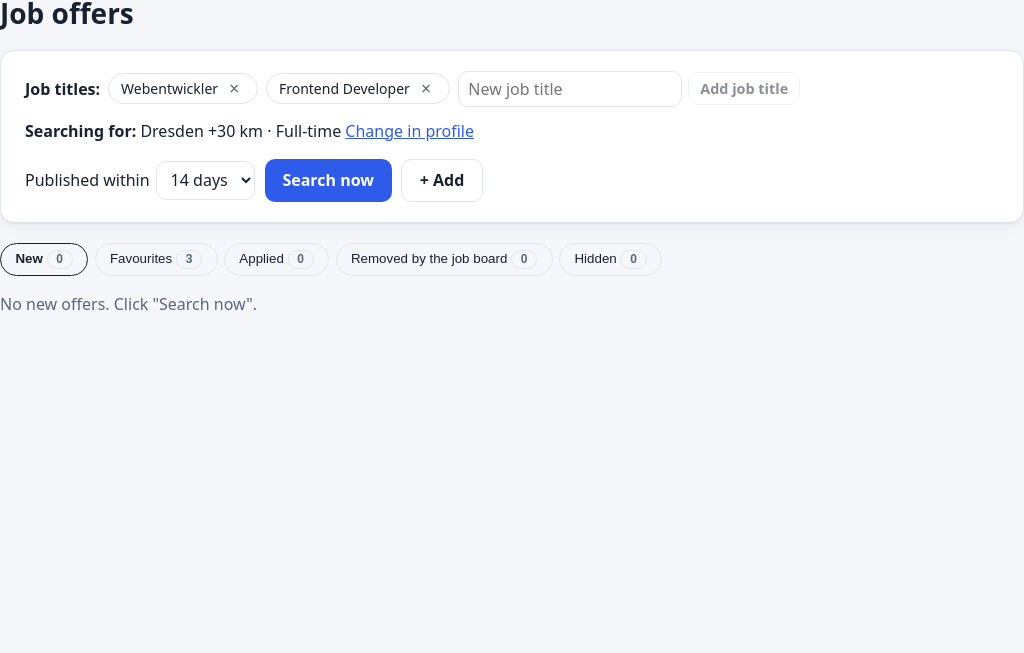
Test: VacanciesPage — find contact (0.9.1) › an Arbeitsagentur favourite has "Find contact"; saving goes to the vacancy and the card shows it; one dialog at a time
Click the tab "Favourites 3".
click(156, 259)  # box [95,243,218,276]
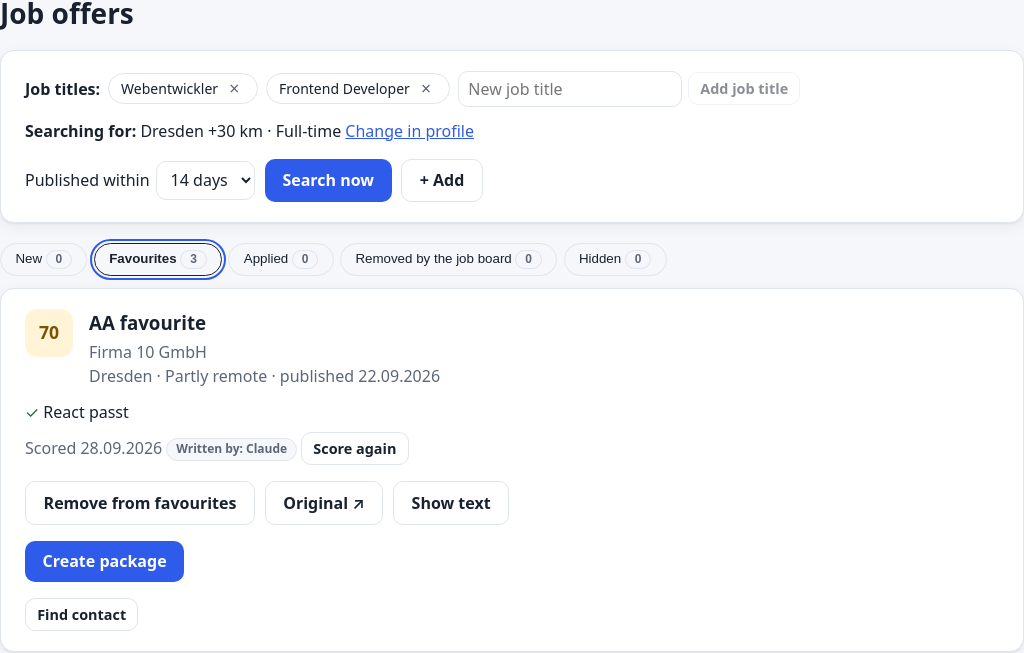
Expected: the text "Find contact" is not shown
Click the button "Find contact".
click(82, 615)  # box [25,598,138,631]
(page scrolled)
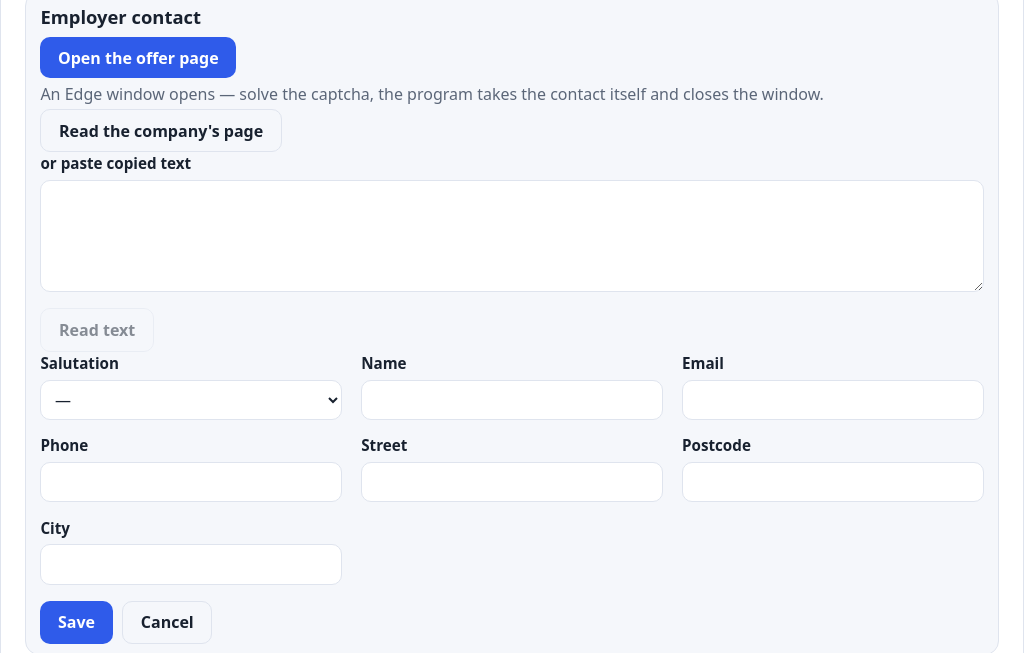
Result: the button "Open the offer page" is shown at [40,37,236,78]
Result: the button "Read the company's page" is shown at [40,109,282,152]
Type "hr@example.de" into the field labelled "Email".
click(833, 400); type("hr@example.de")  # box [682,380,984,420]
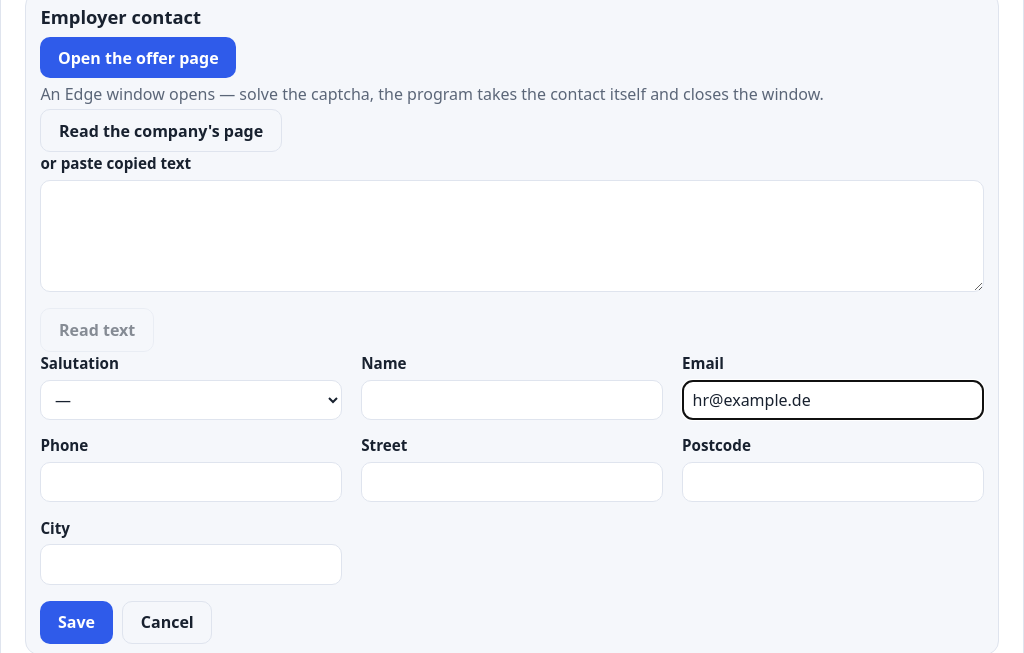
Click the button "Save".
click(76, 622)  # box [40,601,113,644]
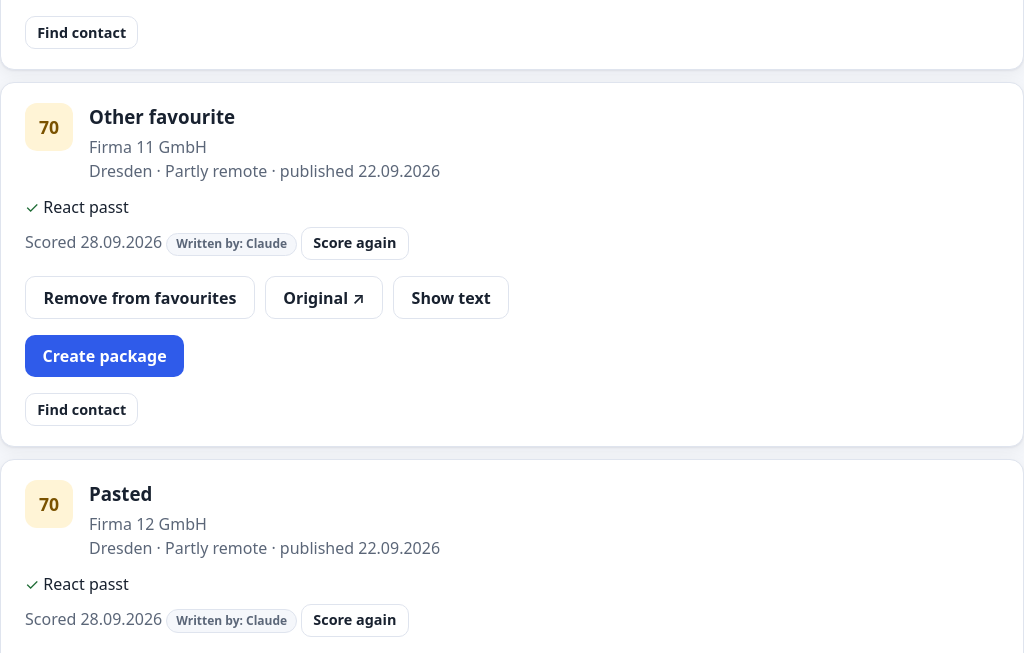
Result: the button "Find contact" below "Firma 11 GmbH" is enabled at [25,393,138,426]
